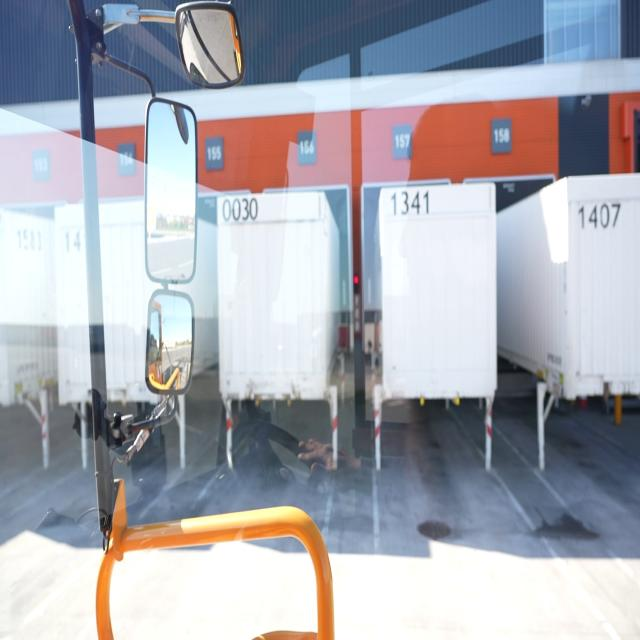Code: (576, 197, 626, 233), (389, 187, 436, 221), (221, 192, 263, 226)
